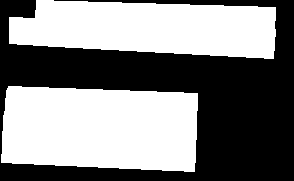parkingspot: (9, 17, 275, 58), (35, 0, 275, 33), (4, 86, 197, 127), (2, 115, 196, 155), (1, 145, 195, 171)
